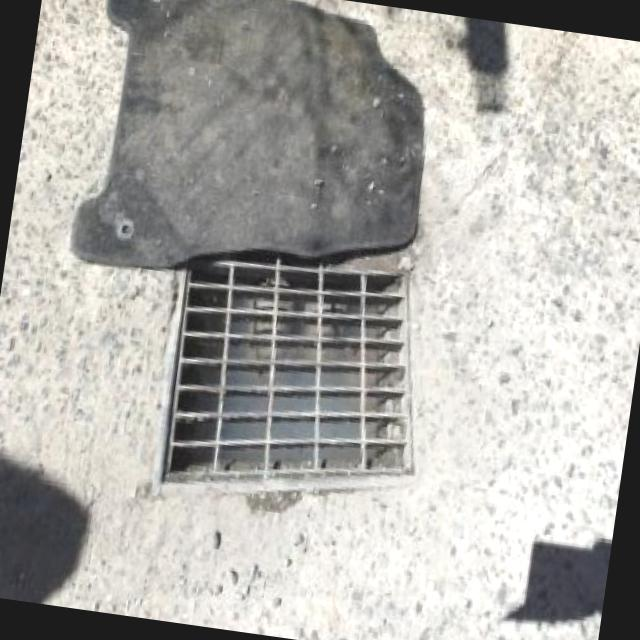drain-clean-: (130, 245, 464, 496)
